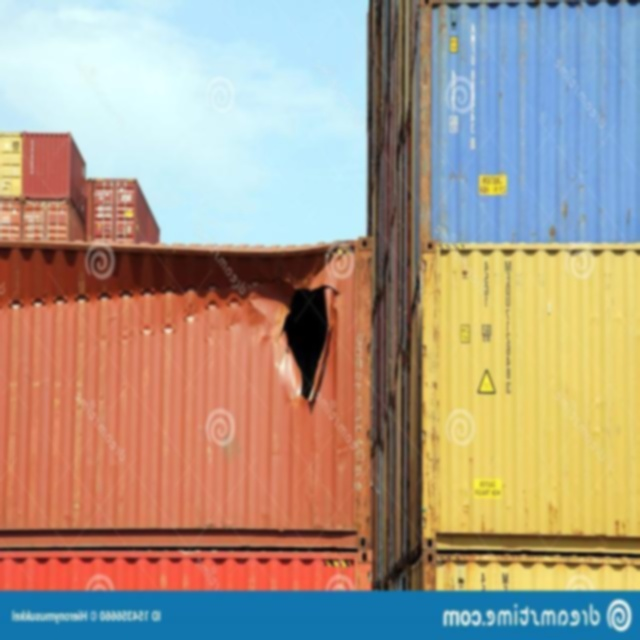Dent: (5, 272, 242, 351)
Hole: (264, 277, 346, 415)
